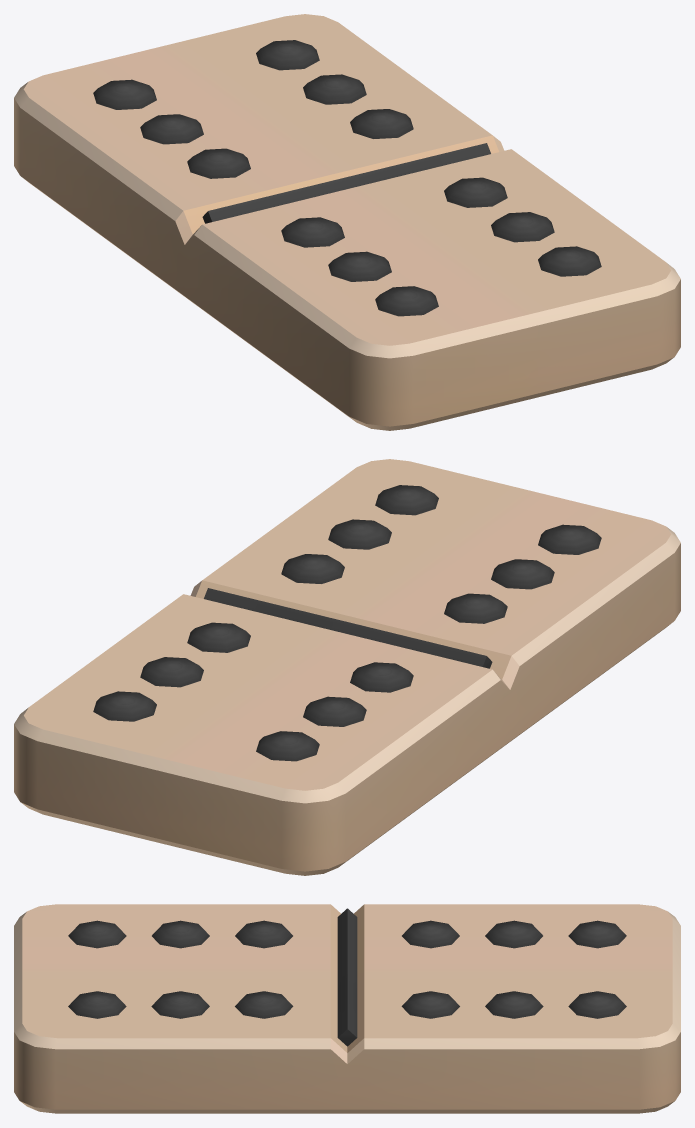
File: board.domino_tile_6_6.glb
3 views of the same model, one above another, from view 1: azimuth 30°, elevation 25°; view 2: azimuth 150°, elevation 25°; view 3: azimuth 270°, elevation 25° (orthographic). The views are drawn at different scales.
Visible parts, largest first — view 1: domino_tile_6-6; view 2: domino_tile_6-6; view 3: domino_tile_6-6.
Boxes of the visible parts, x1,y1,x2,y2 form: domino_tile_6-6: (14,14,680,430); domino_tile_6-6: (14,459,680,875); domino_tile_6-6: (14,904,680,1113).
Bounding box in the file's own units: 0.0267 × 0.00738 × 0.0533.
1 material, 1 textured.
